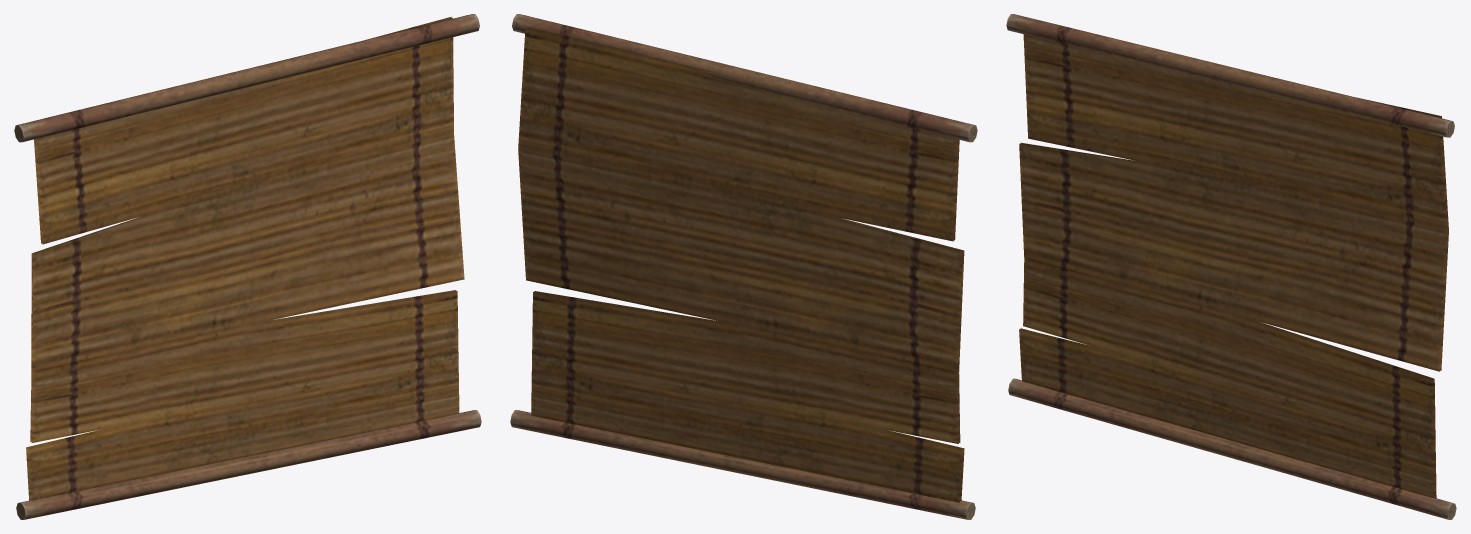
Rendered from i_zx_zhuxi01_03.FBX.
3 views of the same model, side by side, from view 1: azimuth 30°, elevation 25°; view 2: azimuth 150°, elevation 25°; view 3: azimuth 330°, elevation 25° (orthographic). The views are drawn at different scales.
Visible parts, largest first — view 1: i_zx_zhuxi01_03; view 2: i_zx_zhuxi01_03; view 3: i_zx_zhuxi01_03.
Part boxes in pixels (<box>): i_zx_zhuxi01_03: <box>14,14,481,519</box>; i_zx_zhuxi01_03: <box>510,14,977,519</box>; i_zx_zhuxi01_03: <box>1006,14,1456,519</box>.
Size of the model in its own units: 2.29 by 1.98 by 0.132.
